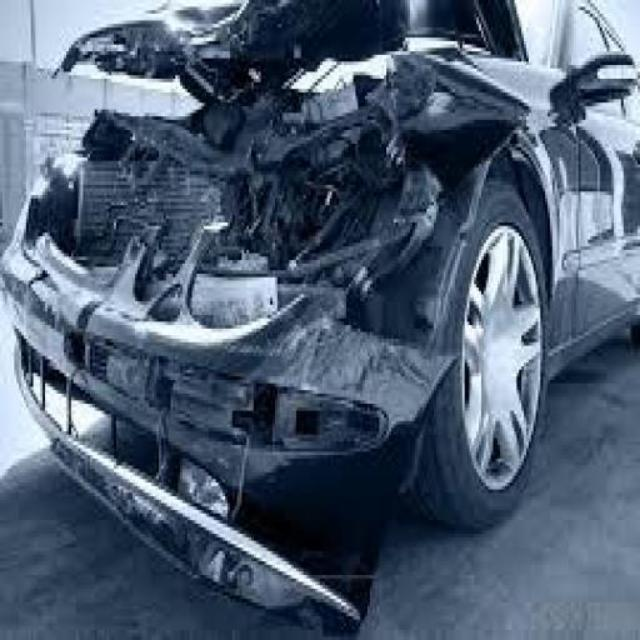crash: (3, 4, 520, 640)
